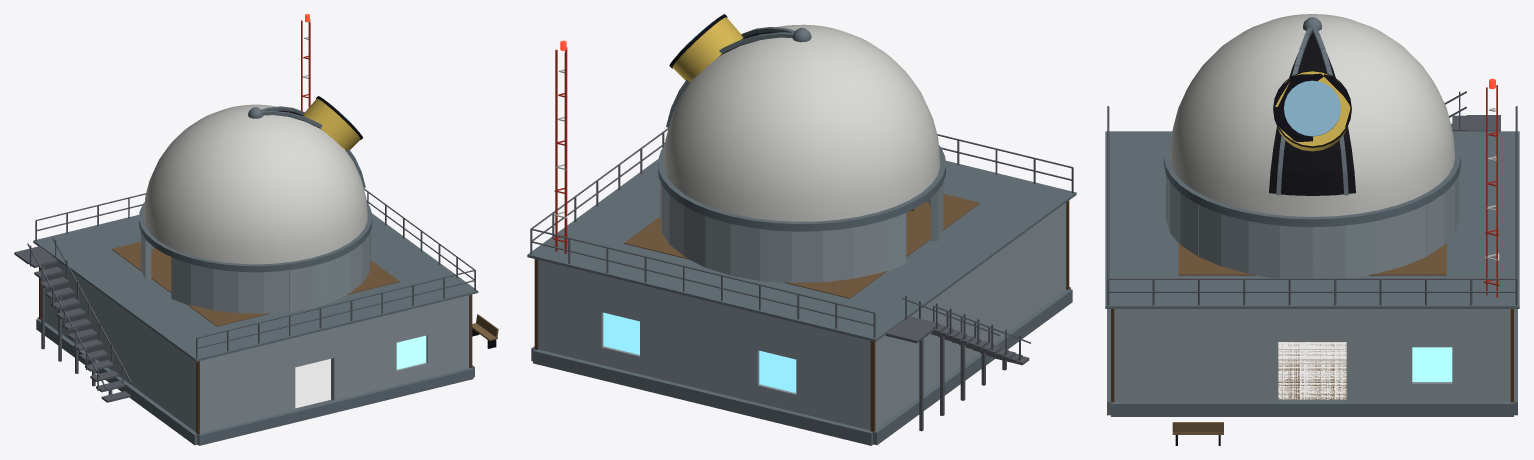
File: tf-observatory-p4.glb
3 renders of one model, left to right at view 1: azimuth 30°, elevation 25°; view 2: azimuth 150°, elevation 25°; view 3: azimuth 270°, elevation 25°, orthographic. The views are drawn at different scales.
Visible parts, largest first — view 1: tf-observatory-p4; view 2: tf-observatory-p4; view 3: tf-observatory-p4.
Part boxes in pixels (box(x1,y1,x2,y2)): tf-observatory-p4: box(14, 14, 498, 445); tf-observatory-p4: box(527, 14, 1076, 445); tf-observatory-p4: box(1105, 14, 1519, 445).
Bounding box in the file's own units: 18.28 × 12.6 × 14.5.
